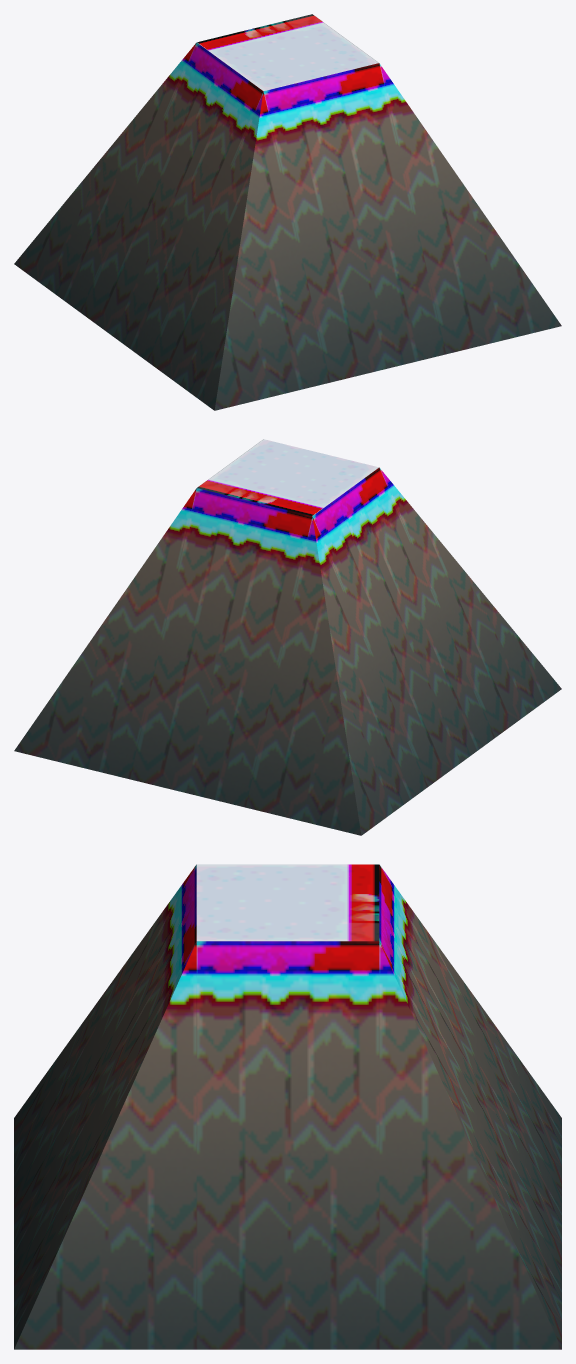
Rendered from arch_winter_wall_isle_B.FBX.
The picture shows the model from 3 angles, top to bottom: view 1: azimuth 30°, elevation 25°; view 2: azimuth 150°, elevation 25°; view 3: azimuth 270°, elevation 25°; orthographic projection. The views are drawn at different scales.
Visible parts, largest first — view 1: arch_winter_wall_isle_B; view 2: arch_winter_wall_isle_B; view 3: arch_winter_wall_isle_B.
Part boxes in pixels (bbox=[...]): arch_winter_wall_isle_B: bbox=[14, 14, 561, 410]; arch_winter_wall_isle_B: bbox=[14, 439, 561, 835]; arch_winter_wall_isle_B: bbox=[14, 864, 561, 1349].
Bounding box in the file's own units: 6 × 4 × 6.
1 material, 1 textured.
